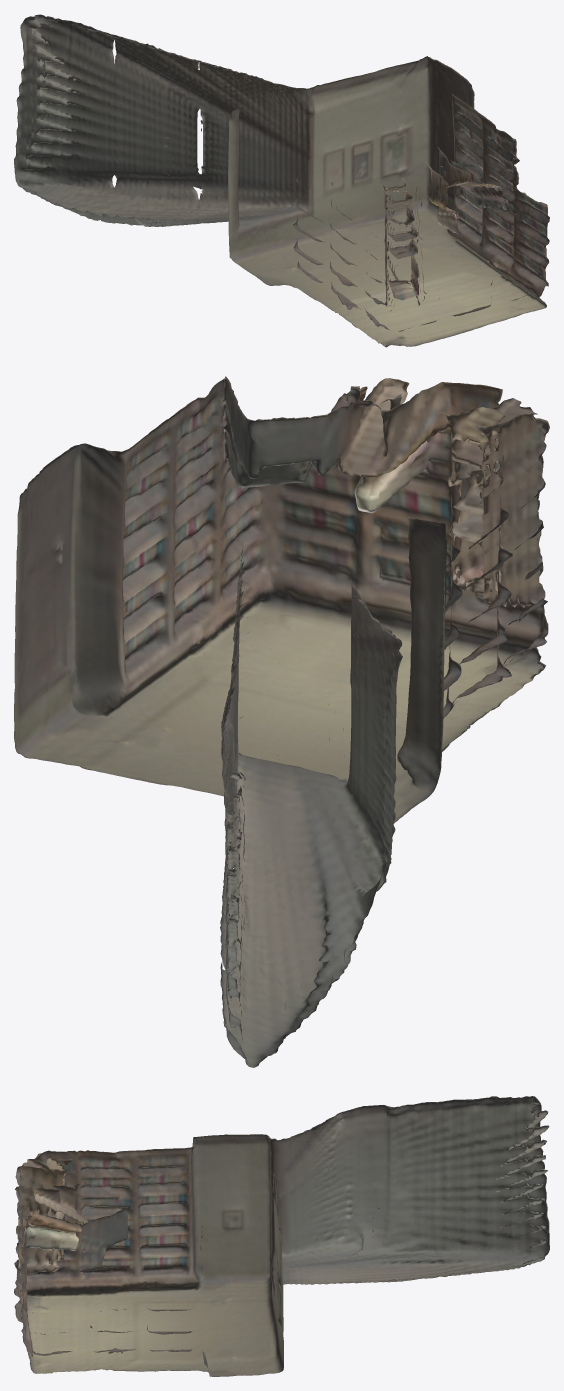
The model's file is library_collider.glb.
3 renders of one model, top to bottom at view 1: azimuth 30°, elevation 25°; view 2: azimuth 150°, elevation 25°; view 3: azimuth 270°, elevation 25°, orthographic. The views are drawn at different scales.
Visible parts, largest first — view 1: world; view 2: world; view 3: world.
Boxes of the visible parts, x1=… form: world: x1=14, y1=14, x2=549, y2=347; world: x1=14, y1=376, x2=549, y2=1067; world: x1=14, y1=1096, x2=549, y2=1376.
Size of the model in its own units: 3.55 by 2.07 by 6.
